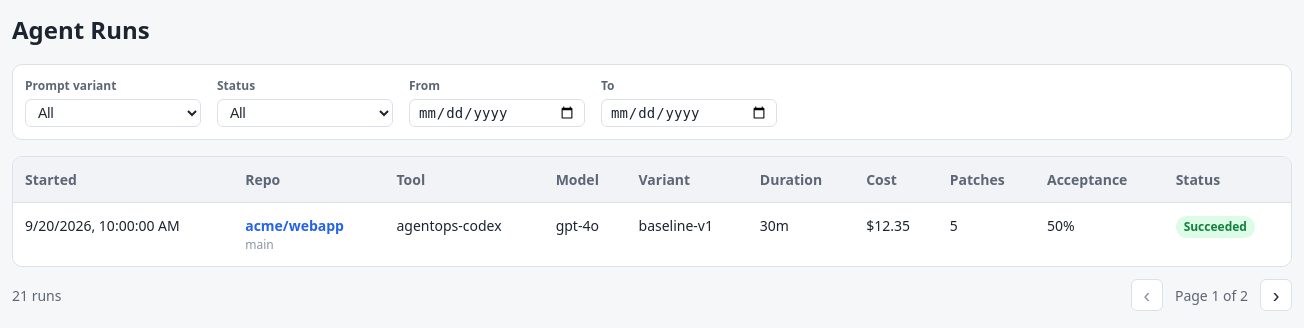
Test: RunsPage › paginates server-side with prev/next controls
Expected: the link "acme/webapp" is shown, [245,216,344,235]
Expected: the button named "Previous page" is disabled, [1131,279,1163,311]
Click the button named "Next page".
click(1276, 295)  # box [1260,279,1292,311]
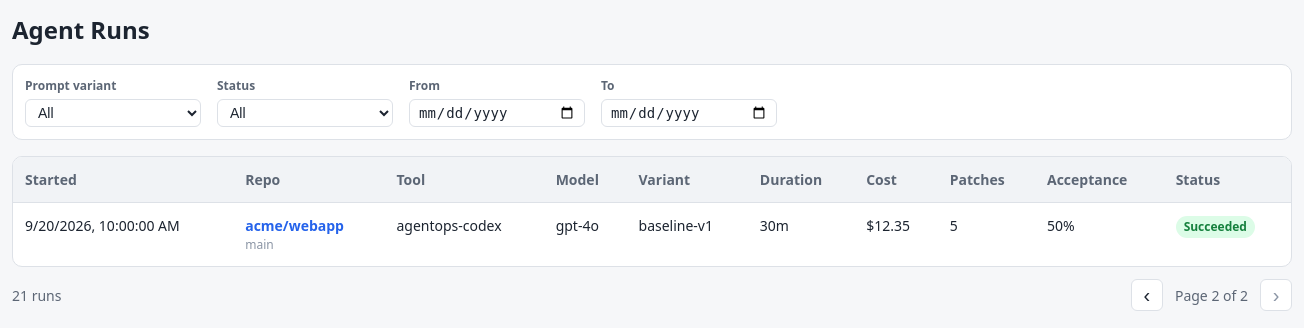
Expected: the text "Page 2 of 2" is shown, [1175,284,1248,306]
